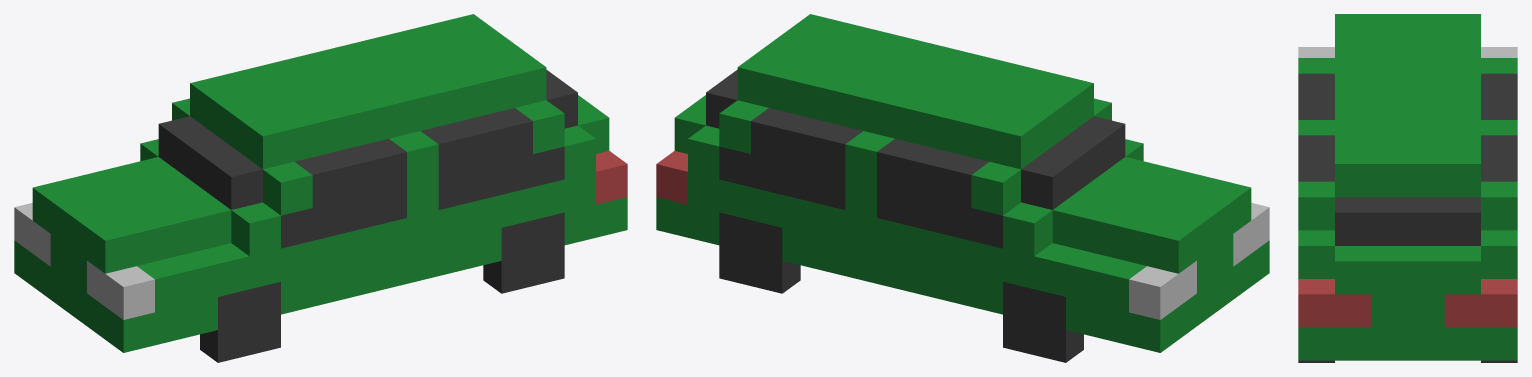
The model's file is car-v3-green.gltf.
3 views of the same model, side by side, from view 1: azimuth 30°, elevation 25°; view 2: azimuth 150°, elevation 25°; view 3: azimuth 270°, elevation 25° (orthographic).
Parts seen in each view (by area): view 1: model, wheels; view 2: model, wheels; view 3: model, wheels.
Boxes of the visible parts, <box> form: model: <box>14,14,627,352</box>; wheels: <box>200,212,564,362</box>; model: <box>656,14,1269,352</box>; wheels: <box>719,212,1083,362</box>; model: <box>1298,14,1517,360</box>; wheels: <box>1298,360,1517,362</box>.
Bounding box in the file's own units: 1.6 × 0.6 × 0.6.
2 materials, 2 textured.
